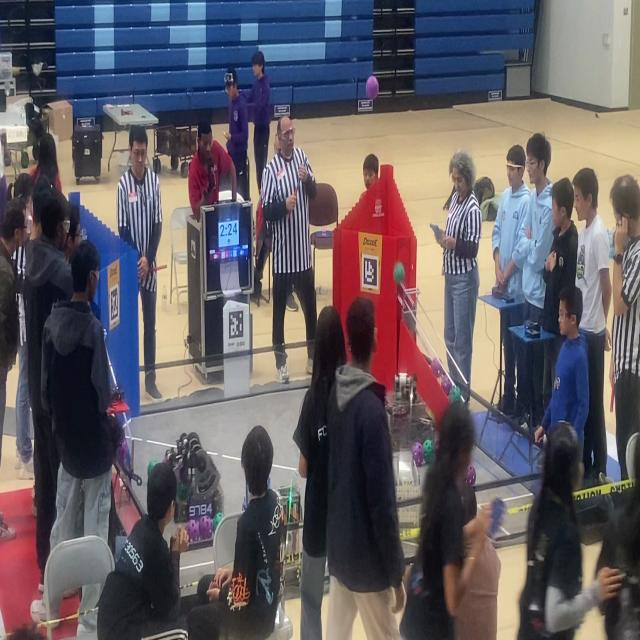artifact_green: (185, 519, 199, 542), (423, 440, 434, 464), (394, 262, 405, 285), (449, 385, 462, 404), (177, 481, 189, 501), (441, 374, 452, 395), (213, 512, 224, 531), (148, 460, 158, 476), (21, 152, 28, 169)
artifact_purple: (366, 75, 379, 100), (199, 516, 212, 539), (186, 519, 199, 542), (412, 443, 424, 466), (431, 358, 443, 378), (465, 465, 476, 485), (441, 376, 452, 396), (213, 512, 224, 530), (434, 431, 439, 451)
